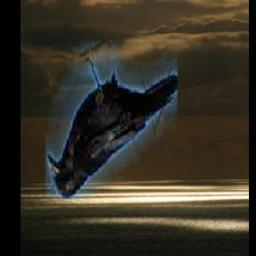Crow: (45, 40, 178, 199)
